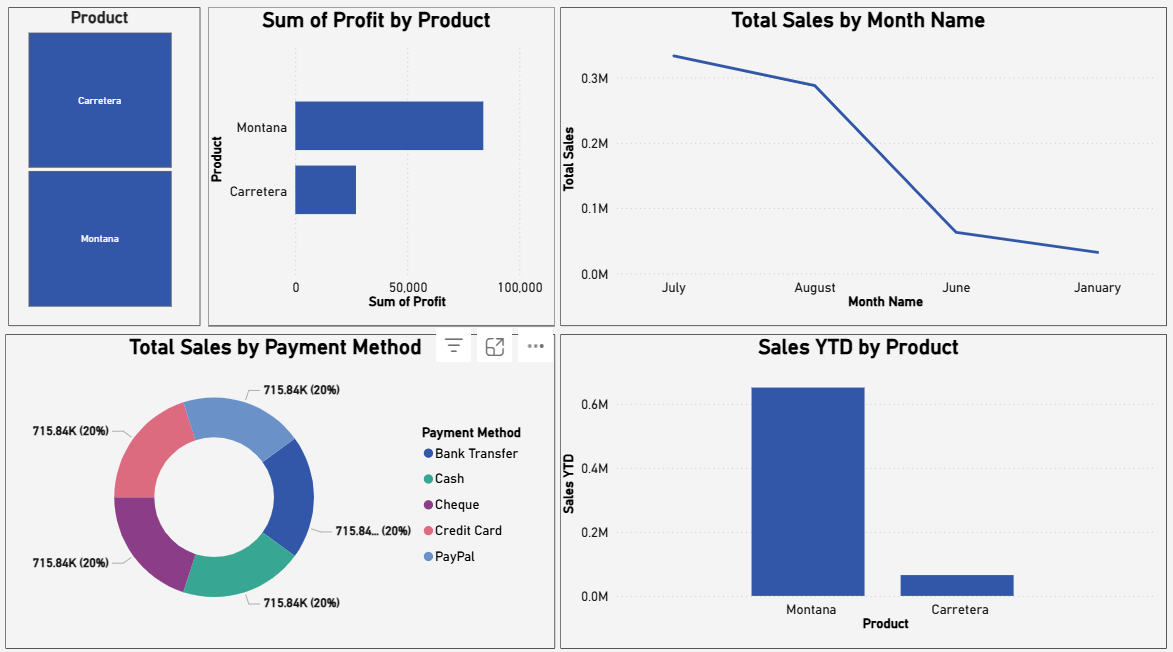

Layout of this report page (visuals, bound fields, positions):
{"tool":"powerbi","page":{"name":"Page 2","canvas":[1280,720],"ordinal":1},"visuals":[{"type":"lineChart","fields":{"Y":["Finance Sales Data.Total Sales"],"Category":["Finance Sales Data.Month Name"]},"box":[614,16.3,657,346],"z":0},{"type":"donutChart","fields":{"Category":["FinanceTransactions.Payment Method"],"Y":["Finance Sales Data.Total Sales"]},"box":[11,371,596,341],"z":1000},{"type":"slicer","title":"Product","fields":{"Values":["Finance Sales Data.Product"]},"box":[14.6,16.3,208.2,346],"z":2000},{"type":"clusteredColumnChart","fields":{"Y":["Finance Sales Data.Sales YTD"],"Category":["Finance Sales Data.Product"]},"box":[614,371,657,341],"z":3000},{"type":"clusteredBarChart","fields":{"Category":["Finance Sales Data.Product"],"Y":["Sum(Finance Sales Data.Profit)"]},"box":[231,16.3,376,346],"z":4000}]}

Visuals, with their boxes in screenshot pixels (x1, y1, x2, y2), scaled from the page's 1280x720 canvas onto the 1173x652 screenshot:
lineChart - Finance Sales Data.Total Sales x Finance Sales Data.Month Name: 563/15/1165/328
donutChart - FinanceTransactions.Payment Method x Finance Sales Data.Total Sales: 10/336/556/645
"Product" slicer: 13/15/204/328
clusteredColumnChart - Finance Sales Data.Sales YTD x Finance Sales Data.Product: 563/336/1165/645
clusteredBarChart - Finance Sales Data.Product x Sum(Finance Sales Data.Profit): 212/15/556/328
